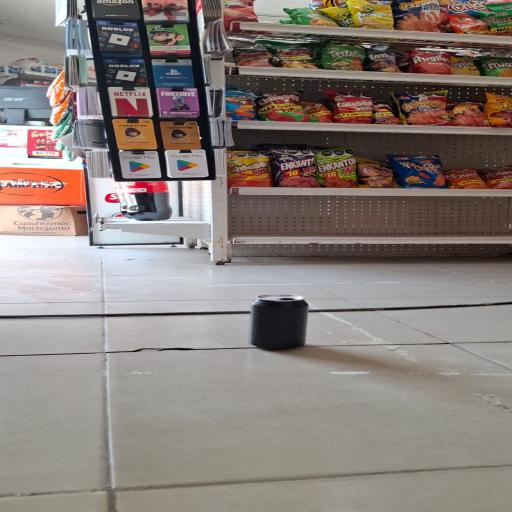LATA: (229, 292, 335, 358)
